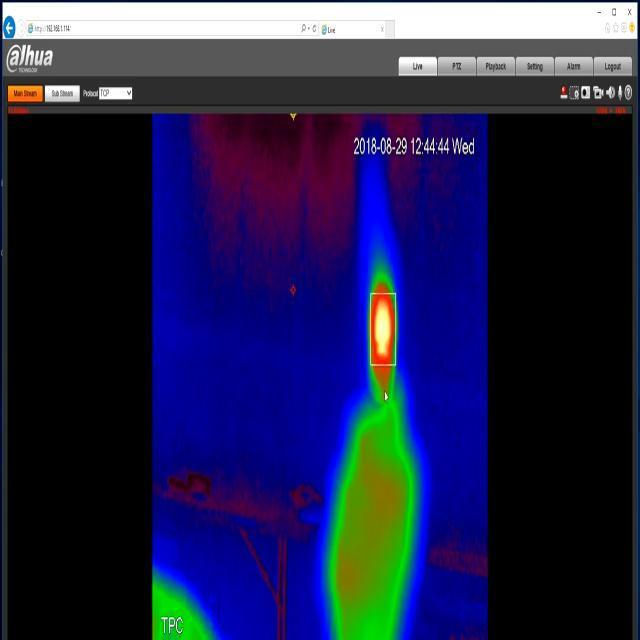fire: (368, 266, 401, 404)
